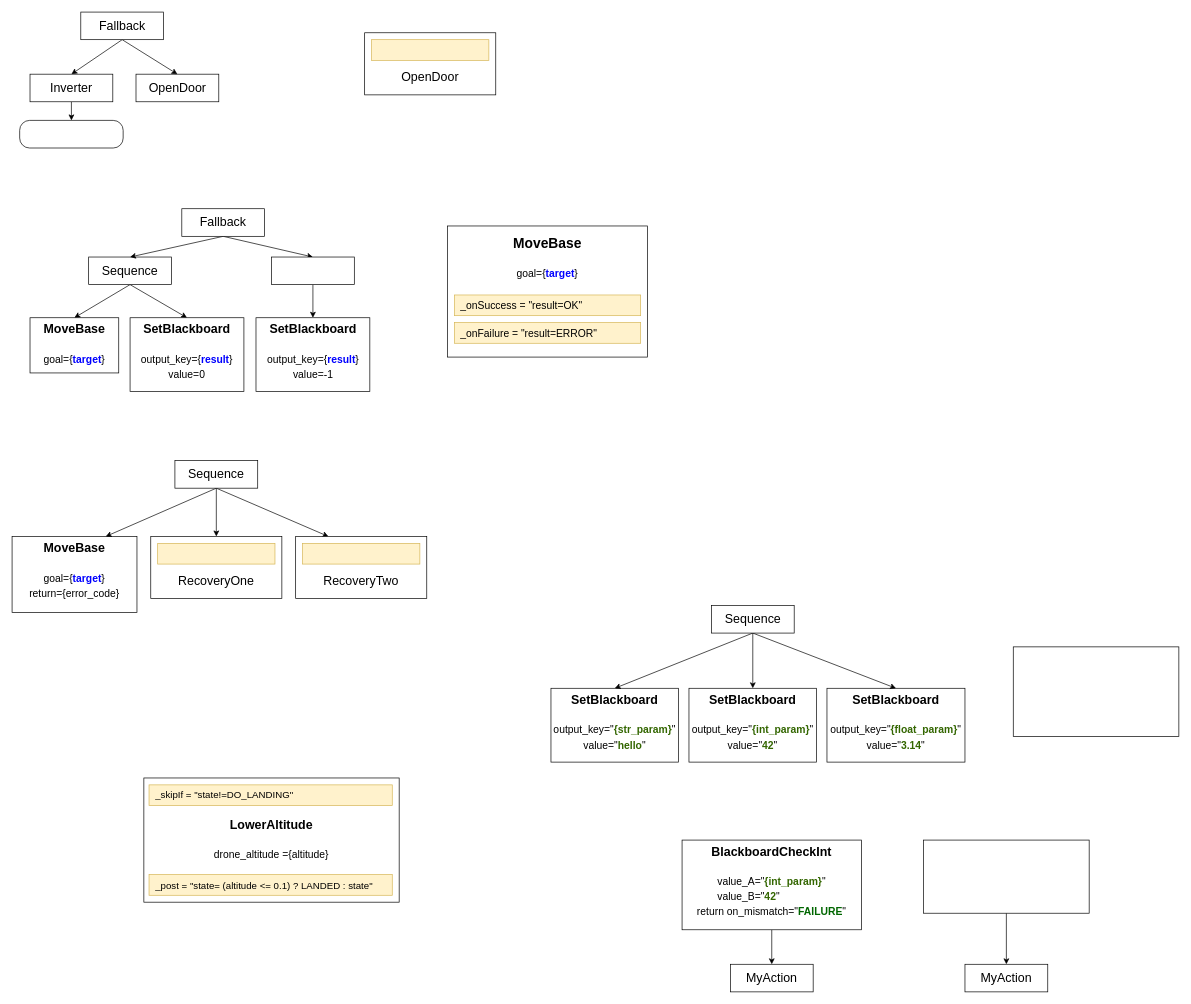
The diagram is 1191 pixels wide and 1004 high, and some of its shapes have lost their labels. The centre of each missing label's shape, as x and y in pixels:
_skipIf = "!door_closed": the point at 430,49
_skipIf = "error_code!=1": the point at 216,553
_skipIf = "error_code!=2": the point at 361,553
ForceFailure: the point at 312,270
IsDoorClosed: the point at 71,134
Precondition if=" int_param >= (40+2) " else=" FAILURE ": the point at 1006,876
Script code=" str_param='hello'; int_param=42; float_param=3.14 ": the point at 1096,691
